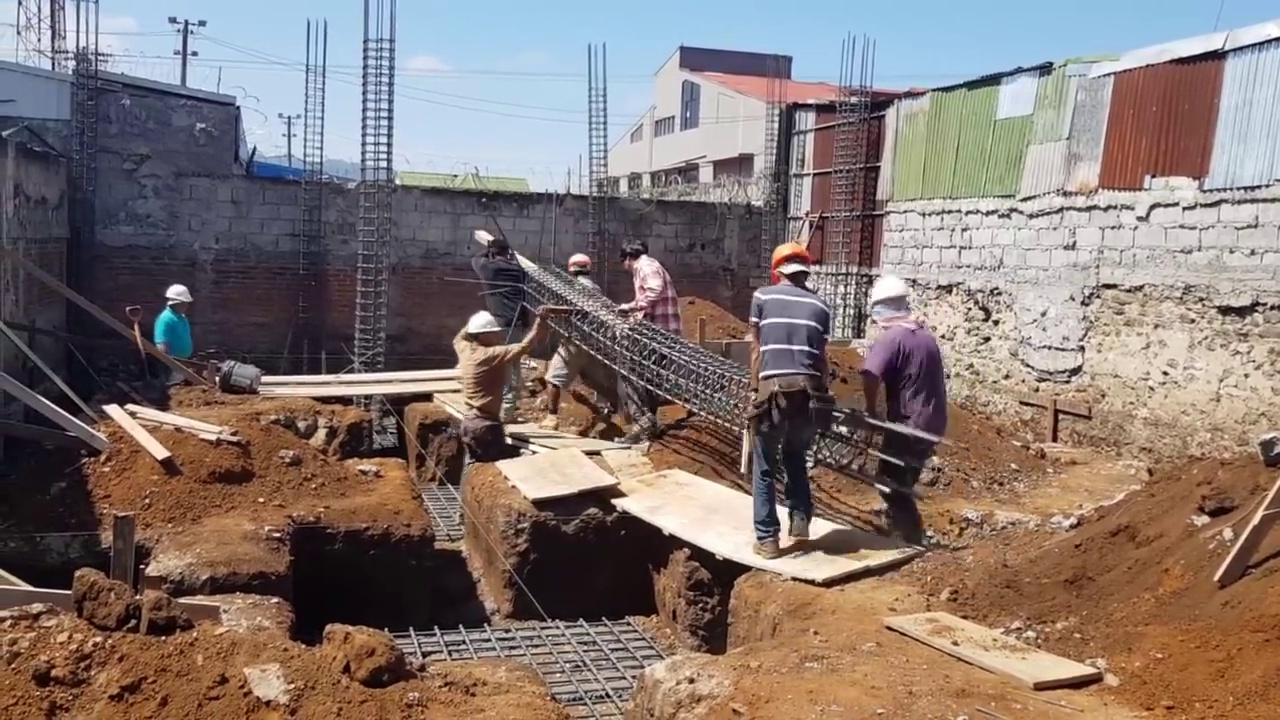helmet: (868, 274, 915, 316), (769, 243, 817, 283), (463, 311, 503, 336), (566, 252, 592, 274), (167, 286, 192, 304)
helmet-off: (484, 236, 516, 266), (626, 241, 650, 268)
helmet-on: (868, 275, 925, 334), (769, 243, 817, 296), (463, 307, 504, 353), (566, 251, 595, 282), (165, 283, 193, 315)
person: (740, 239, 842, 561), (860, 270, 948, 566), (451, 302, 546, 466), (617, 238, 684, 451), (539, 249, 603, 429), (471, 236, 529, 422), (153, 286, 193, 359)
